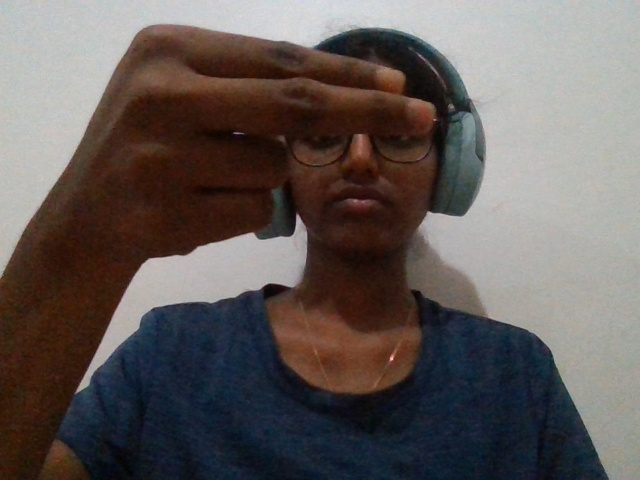H: (33, 5, 520, 349)
